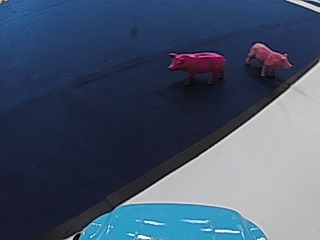pig: (165, 46, 226, 86), (245, 40, 293, 79)
